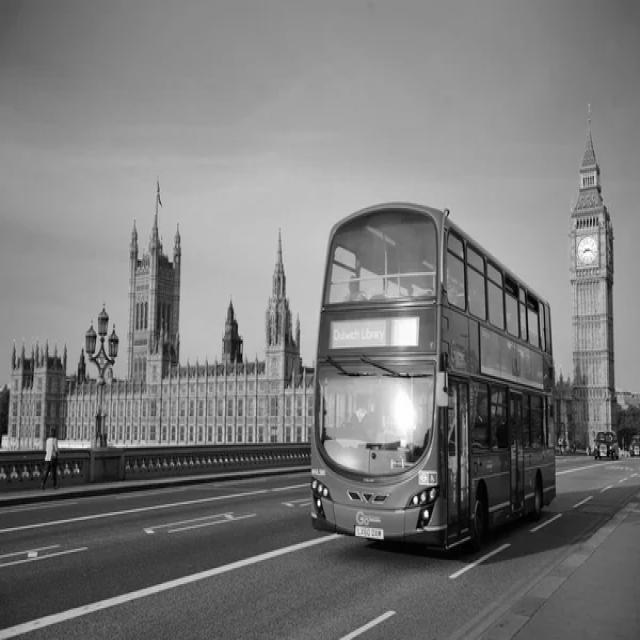Bus: (310, 188, 562, 561)
